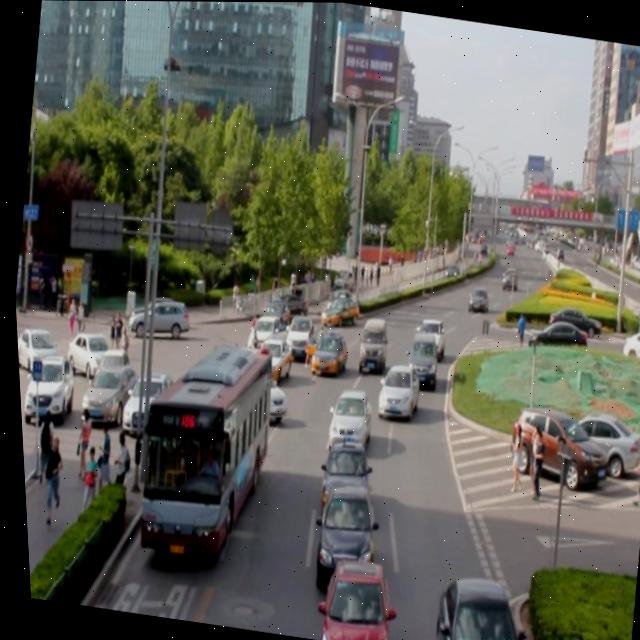car: (422, 571, 523, 640), (310, 555, 388, 640), (306, 485, 373, 583), (311, 436, 370, 522), (226, 361, 289, 429), (322, 386, 370, 451), (370, 362, 419, 423), (206, 338, 251, 394), (248, 332, 297, 382), (307, 321, 351, 374), (398, 330, 437, 389), (276, 308, 318, 361), (319, 285, 364, 328), (242, 313, 281, 358), (408, 315, 444, 360)
truck: (351, 315, 389, 377)
van: (122, 335, 277, 555)
